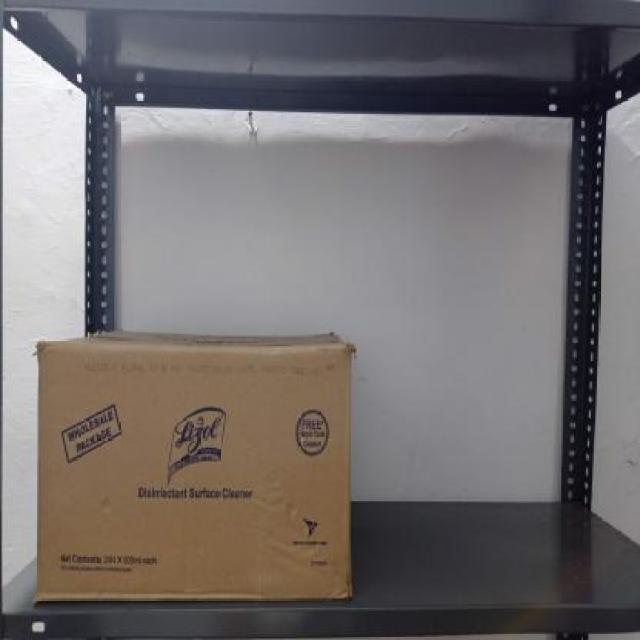box: (34, 339, 354, 598)
